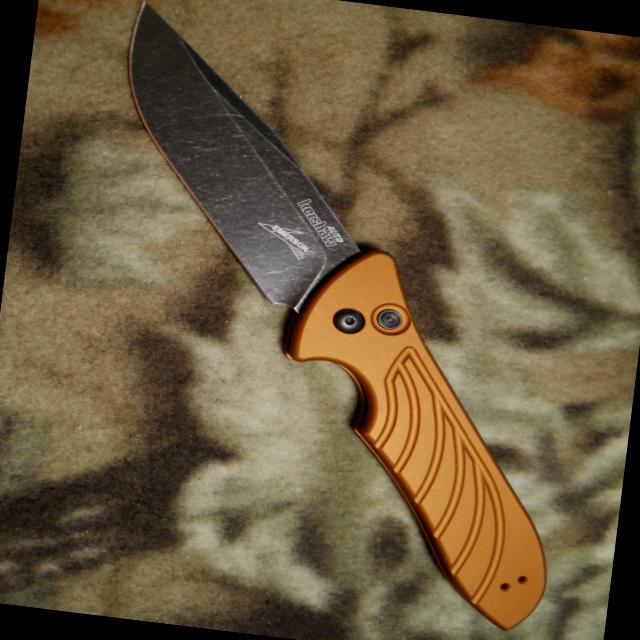knife: (93, 0, 412, 330)
